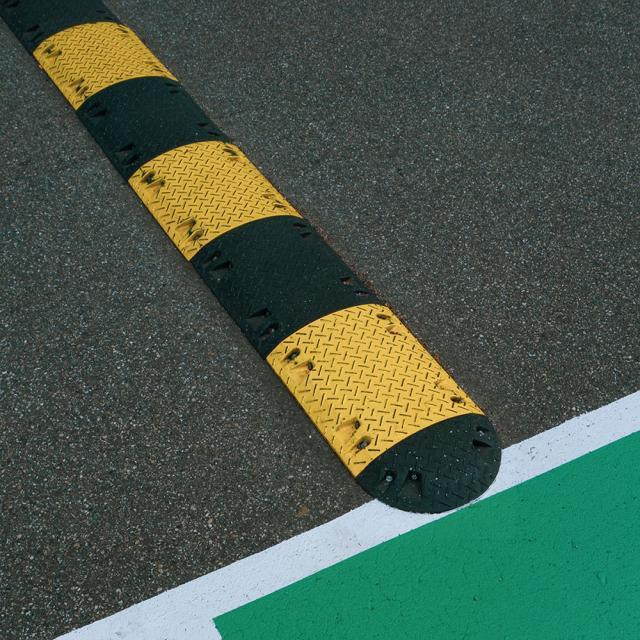Marked Bump: (17, 7, 523, 505)
